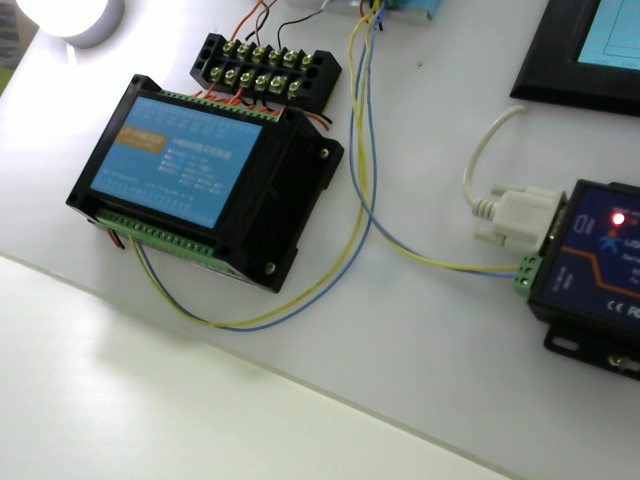relay: (46, 97, 325, 292)
